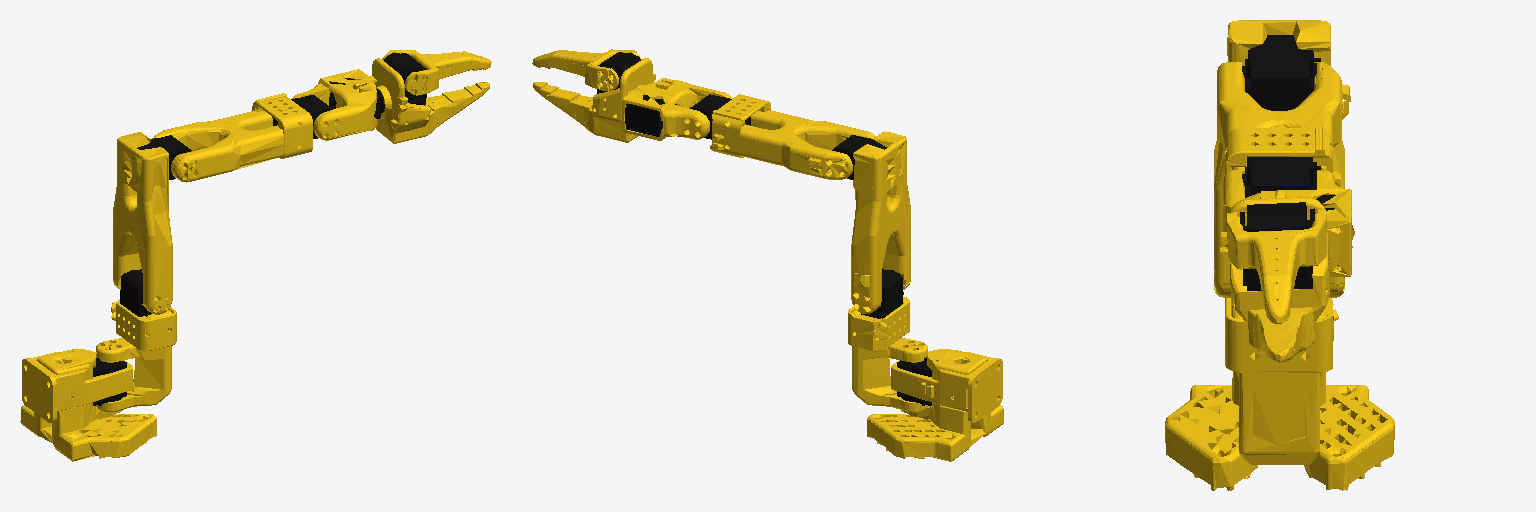
URDF robot description (so101_new_calib):
<?xml version='1.0' encoding='utf-8'?>
<robot name="so101_new_calib">

  
  <material name="3d_printed">
    <color rgba="1.0 0.82 0.12 1.0" />
  </material>
  <material name="sts3215">
    <color rgba="0.1 0.1 0.1 1.0" />
  </material>

  
  <link name="base_link">
    <inertial>
      <origin xyz="0.0137179 -5.19711e-05 0.0334843" rpy="0 0 0" />
      <mass value="0.147" />
      <inertia ixx="0.000114686" ixy="-4.59787e-07" ixz="4.97151e-06" iyy="0.000136117" iyz="9.75275e-08" izz="0.000130364" />
    </inertial>
    
    <visual>
      <origin xyz="-0.00636471 -9.94414e-05 -0.0024" rpy="1.5708 -1.67685e-15 1.5708" />
      <geometry>
        <mesh filename="assets/base_motor_holder_so101_v1.stl" />
      </geometry>
      <material name="3d_printed" />
    </visual>
    <visual>
      <origin xyz="-0.00636471 -8.97657e-09 -0.0024" rpy="1.5708 -2.78073e-29 1.5708" />
      <geometry>
        <mesh filename="assets/base_so101_v2.stl" />
      </geometry>
      <material name="3d_printed" />
    </visual>
    <visual>
      <origin xyz="0.0263353 -8.97657e-09 0.0437" rpy="-8.21148e-16 7.84513e-18 1.249e-15" />
      <geometry>
        <mesh filename="assets/sts3215_03a_v1.stl" />
      </geometry>
      <material name="sts3215" />
    </visual>
    <visual>
      <origin xyz="-0.0309827 -0.000199441 0.0474" rpy="1.5708 -1.35493e-14 1.5708" />
      <geometry>
        <mesh filename="assets/waveshare_mounting_plate_so101_v2.stl" />
      </geometry>
      <material name="3d_printed" />
    </visual>
    </link>

  
  <link name="shoulder_link">
    <inertial>
      <origin xyz="-0.0307604 -1.66727e-05 -0.0252713" rpy="0 0 0" />
      <mass value="0.100006" />
      <inertia ixx="8.3759e-05" ixy="7.55525e-08" ixz="-1.16342e-06" iyy="8.10403e-05" iyz="1.54663e-07" izz="2.39783e-05" />
    </inertial>
    
    <visual>
      <origin xyz="-0.0303992 0.000422241 -0.0417" rpy="1.5708 1.5708 0" />
      <geometry>
        <mesh filename="assets/sts3215_03a_v1.stl" />
      </geometry>
      <material name="sts3215" />
    </visual>
    <visual>
      <origin xyz="-0.0675992 -0.000177759 0.0158499" rpy="1.5708 -1.5708 0" />
      <geometry>
        <mesh filename="assets/motor_holder_so101_base_v1.stl" />
      </geometry>
      <material name="3d_printed" />
    </visual>
    <visual>
      <origin xyz="0.0122008 2.22413e-05 0.0464" rpy="-1.5708 2.35221e-33 0" />
      <geometry>
        <mesh filename="assets/rotation_pitch_so101_v1.stl" />
      </geometry>
      <material name="3d_printed" />
    </visual>
    </link>

  
  <link name="upper_arm_link">
    <inertial>
      <origin xyz="-0.0898471 -0.00838224 0.0184089" rpy="0 0 0" />
      <mass value="0.103" />
      <inertia ixx="4.08002e-05" ixy="-1.97819e-05" ixz="-4.03016e-08" iyy="0.000147318" iyz="8.97326e-09" izz="0.000142487" />
    </inertial>
    
    <visual>
      <origin xyz="-0.11257 -0.0155 0.0187" rpy="-3.14159 -5.27356e-16 -1.5708" />
      <geometry>
        <mesh filename="assets/sts3215_03a_v1.stl" />
      </geometry>
      <material name="sts3215" />
    </visual>
    <visual>
      <origin xyz="-0.065085 0.012 0.0182" rpy="3.14159 -0 -1.30911e-30" />
      <geometry>
        <mesh filename="assets/upper_arm_so101_v1.stl" />
      </geometry>
      <material name="3d_printed" />
    </visual>
    </link>

  
  <link name="lower_arm_link">
    <inertial>
      <origin xyz="-0.0980701 0.00324376 0.0182831" rpy="0 0 0" />
      <mass value="0.104" />
      <inertia ixx="2.87438e-05" ixy="7.41152e-06" ixz="1.26409e-06" iyy="0.000159844" iyz="-4.90188e-08" izz="0.00014529" />
    </inertial>
    
    <visual>
      <origin xyz="-0.0648499 -0.032 0.0182" rpy="3.14159 -0 6.67202e-31" />
      <geometry>
        <mesh filename="assets/under_arm_so101_v1.stl" />
      </geometry>
      <material name="3d_printed" />
    </visual>
    <visual>
      <origin xyz="-0.0648499 -0.032 0.018" rpy="-3.14159 -2.55351e-15 -1.83387e-30" />
      <geometry>
        <mesh filename="assets/motor_holder_so101_wrist_v1.stl" />
      </geometry>
      <material name="3d_printed" />
    </visual>
    <visual>
      <origin xyz="-0.1224 0.0052 0.0187" rpy="-3.14159 -7.88861e-31 -3.14159" />
      <geometry>
        <mesh filename="assets/sts3215_03a_v1.stl" />
      </geometry>
      <material name="sts3215" />
    </visual>
    </link>

  
  <link name="wrist_link">
    <inertial>
      <origin xyz="-0.000103312 -0.0386143 0.0281156" rpy="0 0 0" />
      <mass value="0.079" />
      <inertia ixx="3.68263e-05" ixy="1.7893e-08" ixz="-5.28128e-08" iyy="2.5391e-05" iyz="3.6412e-06" izz="2.1e-05" />
    </inertial>
    
    <visual>
      <origin xyz="8.32667e-17 -0.0424 0.0306" rpy="1.5708 1.5708 0" />
      <geometry>
        <mesh filename="assets/sts3215_03a_no_horn_v1.stl" />
      </geometry>
      <material name="sts3215" />
    </visual>
    <visual>
      <origin xyz="0 -0.028 0.0181" rpy="-1.5708 -1.5708 0" />
      <geometry>
        <mesh filename="assets/wrist_roll_pitch_so101_v2.stl" />
      </geometry>
      <material name="3d_printed" />
    </visual>
    </link>

  
  <link name="gripper_link">
    <inertial>
      <origin xyz="0.000213627 0.000245138 -0.025187" rpy="0 0 0" />
      <mass value="0.087" />
      <inertia ixx="2.75087e-05" ixy="-3.35241e-07" ixz="-5.7352e-06" iyy="4.33657e-05" iyz="-5.17847e-08" izz="3.45059e-05" />
    </inertial>
    
    <visual>
      <origin xyz="0.0077 0.0001 -0.0234" rpy="-1.5708 -5.19179e-17 -1.66533e-16" />
      <geometry>
        <mesh filename="assets/sts3215_03a_v1.stl" />
      </geometry>
      <material name="sts3215" />
    </visual>
    <visual>
      <origin xyz="8.32667e-17 -0.000218214 0.000949706" rpy="-3.14159 -5.55112e-17 0" />
      <geometry>
        <mesh filename="assets/wrist_roll_follower_so101_v1.stl" />
      </geometry>
      <material name="3d_printed" />
    </visual>
    </link>

  
  <link name="gripper_frame_link">
    <origin xyz="0 0 0" rpy="0 -0 0" />
    <inertial>
      <origin xyz="0 0 0" rpy="0 0 0" />
      <mass value="1e-9" />
      <inertia ixx="0" ixy="0" ixz="0" iyy="0" iyz="0" izz="0" />
    </inertial>
  </link>

  <joint name="gripper_frame_joint" type="fixed">
    <origin xyz="-0.0079 -0.000218121 -0.0981274" rpy="0 3.14159 0" />
    <parent link="gripper_link" />
    <child link="gripper_frame_link" />
    <axis xyz="0 0 0" />
  </joint>

  
  <link name="moving_jaw_so101_v1_link">
    <inertial>
      <origin xyz="-0.00157495 -0.0300244 0.0192755" rpy="0 0 0" />
      <mass value="0.012" />
      <inertia ixx="6.61427e-06" ixy="-3.19807e-07" ixz="-5.90717e-09" iyy="1.89032e-06" iyz="-1.09945e-07" izz="5.28738e-06" />
    </inertial>
    
    <visual>
      <origin xyz="-5.55112e-17 -5.55112e-17 0.0189" rpy="9.53145e-17 6.93889e-18 1.24077e-24" />
      <geometry>
        <mesh filename="assets/moving_jaw_so101_v1.stl" />
      </geometry>
      <material name="3d_printed" />
    </visual>
    </link>

  
  <joint name="gripper" type="revolute">
    <origin xyz="0.0202 0.0188 -0.0234" rpy="1.5708 -5.24284e-08 -1.41553e-15" />
    <parent link="gripper_link" />
    <child link="moving_jaw_so101_v1_link" />
    <axis xyz="0 0 1" />
    <limit effort="10" velocity="10" lower="-0.174533" upper="1.74533" />
  </joint>

  <transmission name="gripper_trans">
    <type>transmission_interface/SimpleTransmission</type>
    <joint name="gripper">
      <hardwareInterface>hardware_interface/PositionJointInterface</hardwareInterface>
    </joint>
    <actuator name="motor6">
      <hardwareInterface>hardware_interface/PositionJointInterface</hardwareInterface>
      <mechanicalReduction>1</mechanicalReduction>
    </actuator>
  </transmission>

  
  <joint name="wrist_roll" type="revolute">
    <origin xyz="5.55112e-17 -0.0611 0.0181" rpy="1.5708 0.0486795 3.14159" />
    <parent link="wrist_link" />
    <child link="gripper_link" />
    <axis xyz="0 0 1" />
    <limit effort="10" velocity="10" lower="-2.74385" upper="2.84121" />
  </joint>

  <transmission name="wrist_roll_trans">
    <type>transmission_interface/SimpleTransmission</type>
    <joint name="wrist_roll">
      <hardwareInterface>hardware_interface/PositionJointInterface</hardwareInterface>
    </joint>
    <actuator name="motor5">
      <hardwareInterface>hardware_interface/PositionJointInterface</hardwareInterface>
      <mechanicalReduction>1</mechanicalReduction>
    </actuator>
  </transmission>

  
  <joint name="wrist_flex" type="revolute">
    <origin xyz="-0.1349 0.0052 3.62355e-17" rpy="4.02456e-15 8.67362e-16 -1.5708" />
    <parent link="lower_arm_link" />
    <child link="wrist_link" />
    <axis xyz="0 0 1" />
    <limit effort="10" velocity="10" lower="-1.65806" upper="1.65806" />
  </joint>

  <transmission name="wrist_flex_trans">
    <type>transmission_interface/SimpleTransmission</type>
    <joint name="wrist_flex">
      <hardwareInterface>hardware_interface/PositionJointInterface</hardwareInterface>
    </joint>
    <actuator name="motor4">
      <hardwareInterface>hardware_interface/PositionJointInterface</hardwareInterface>
      <mechanicalReduction>1</mechanicalReduction>
    </actuator>
  </transmission>

  
  
  <joint name="elbow_flex" type="revolute">
    <origin xyz="-0.11257 -0.028 1.73763e-16" rpy="-3.63608e-16 8.74301e-16 1.5708" />
    <parent link="upper_arm_link" />
    <child link="lower_arm_link" />
    <axis xyz="0 0 1" />
    <limit effort="10" velocity="10" lower="-1.69" upper="1.69" />
  </joint>

  <transmission name="elbow_flex_trans">
    <type>transmission_interface/SimpleTransmission</type>
    <joint name="elbow_flex">
      <hardwareInterface>hardware_interface/PositionJointInterface</hardwareInterface>
    </joint>
    <actuator name="motor3">
      <hardwareInterface>hardware_interface/PositionJointInterface</hardwareInterface>
      <mechanicalReduction>1</mechanicalReduction>
    </actuator>
  </transmission>

  
  <joint name="shoulder_lift" type="revolute">
    <origin xyz="-0.0303992 -0.0182778 -0.0542" rpy="-1.5708 -1.5708 0" />
    <parent link="shoulder_link" />
    <child link="upper_arm_link" />
    <axis xyz="0 0 1" />
    <limit effort="10" velocity="10" lower="-1.74533" upper="1.74533" />
  </joint>

  <transmission name="shoulder_lift_trans">
    <type>transmission_interface/SimpleTransmission</type>
    <joint name="shoulder_lift">
      <hardwareInterface>hardware_interface/PositionJointInterface</hardwareInterface>
    </joint>
    <actuator name="motor2">
      <hardwareInterface>hardware_interface/PositionJointInterface</hardwareInterface>
      <mechanicalReduction>1</mechanicalReduction>
    </actuator>
  </transmission>

  
  <joint name="shoulder_pan" type="revolute">
    <origin xyz="0.0388353 -8.97657e-09 0.0624" rpy="3.14159 4.18253e-17 -3.14159" />
    <parent link="base_link" />
    <child link="shoulder_link" />
    <axis xyz="0 0 1" />
    <limit effort="10" velocity="10" lower="-1.91986" upper="1.91986" />
  </joint>

  <transmission name="shoulder_pan_trans">
    <type>transmission_interface/SimpleTransmission</type>
    <joint name="shoulder_pan">
      <hardwareInterface>hardware_interface/PositionJointInterface</hardwareInterface>
    </joint>
    <actuator name="motor1">
      <hardwareInterface>hardware_interface/PositionJointInterface</hardwareInterface>
      <mechanicalReduction>1</mechanicalReduction>
    </actuator>
  </transmission>

</robot>

--- Render facts (derived) ---
Views: 3 orthographic renders of the robot side by side, from view 1: azimuth 30°, elevation 25°; view 2: azimuth 150°, elevation 25°; view 3: azimuth 270°, elevation 25°.
Model so101_new_calib with 8 links and 7 joints (6 revolute, 1 fixed), rooted at base_link, posed all joints at 0.
Visible links, largest first — view 1: base_link, upper_arm_link, lower_arm_link, shoulder_link, gripper_link, wrist_link, moving_jaw_so101_v1_link; view 2: base_link, upper_arm_link, lower_arm_link, shoulder_link, wrist_link, gripper_link, moving_jaw_so101_v1_link; view 3: base_link, lower_arm_link, shoulder_link, upper_arm_link, gripper_link, moving_jaw_so101_v1_link, wrist_link.
Boxes of the visible links, left/top/right/bottom form: base_link: left=20, top=349, right=156, bottom=461; upper_arm_link: left=113, top=132, right=191, bottom=314; lower_arm_link: left=152, top=93, right=332, bottom=182; shoulder_link: left=96, top=269, right=176, bottom=412; gripper_link: left=372, top=53, right=489, bottom=143; wrist_link: left=292, top=69, right=384, bottom=140; moving_jaw_so101_v1_link: left=382, top=50, right=491, bottom=95; base_link: left=867, top=349, right=1003, bottom=461; upper_arm_link: left=832, top=131, right=910, bottom=313; lower_arm_link: left=690, top=94, right=875, bottom=179; shoulder_link: left=848, top=269, right=927, bottom=412; wrist_link: left=622, top=78, right=732, bottom=140; gripper_link: left=533, top=52, right=655, bottom=142; moving_jaw_so101_v1_link: left=532, top=49, right=641, bottom=91; base_link: left=1165, top=298, right=1394, bottom=490; lower_arm_link: left=1217, top=62, right=1350, bottom=197; shoulder_link: left=1225, top=298, right=1338, bottom=464; upper_arm_link: left=1214, top=20, right=1354, bottom=297; gripper_link: left=1220, top=197, right=1329, bottom=362; moving_jaw_so101_v1_link: left=1227, top=208, right=1326, bottom=323; wrist_link: left=1223, top=170, right=1351, bottom=276.
Size in the robot's own frame: 0.4297 by 0.1119 by 0.2684 metres.
Meshes: 13 distinct files referenced, 17 mesh visuals loaded (13 binary STL).
